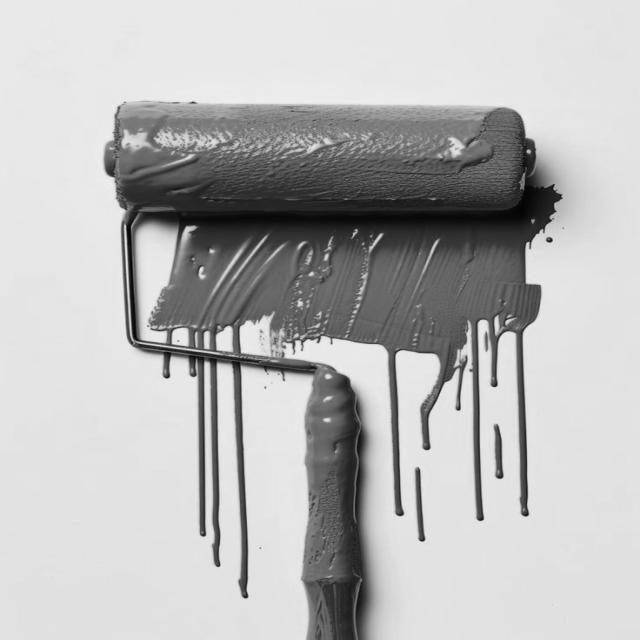paint drips: (257, 303, 544, 546), (150, 314, 266, 606)
